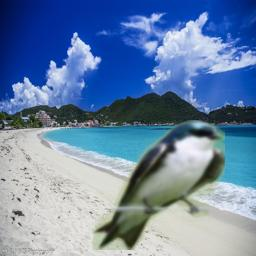Swallow: (92, 120, 225, 250)
